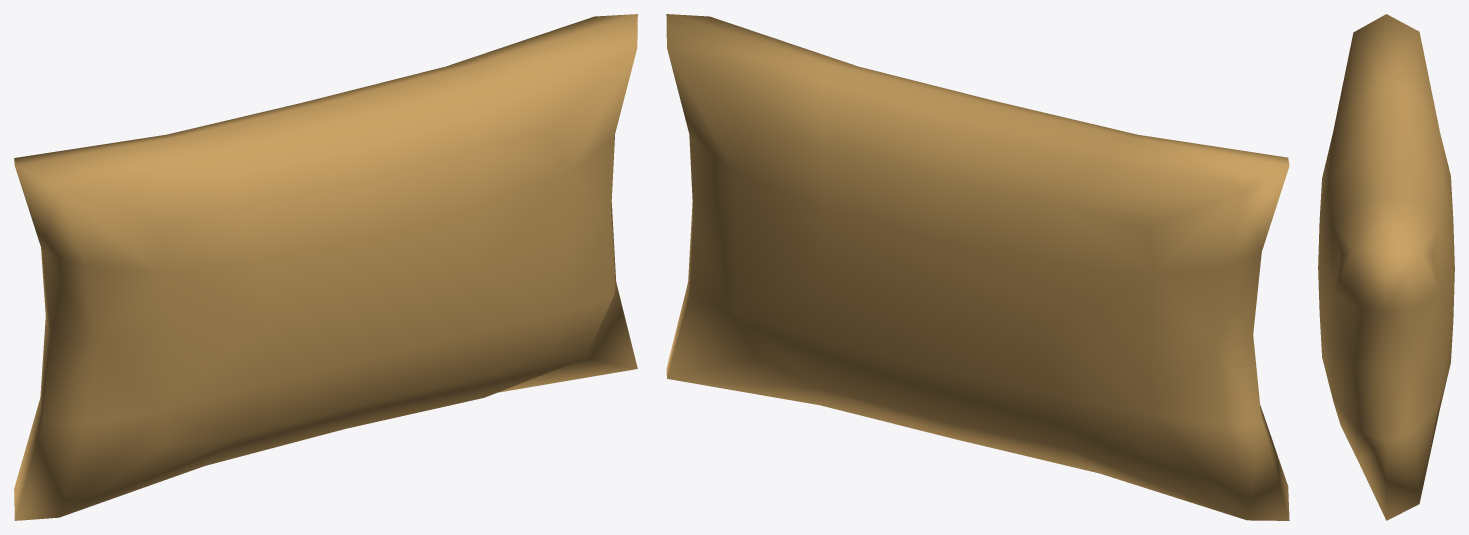
File: pillow 1.fbx
3 views of the same model, side by side, from view 1: azimuth 30°, elevation 25°; view 2: azimuth 150°, elevation 25°; view 3: azimuth 270°, elevation 25° (orthographic). The views are drawn at different scales.
Visible parts, largest first — view 1: pillow:pCube1; view 2: pillow:pCube1; view 3: pillow:pCube1.
Boxes of the visible parts, x1,y1,x2,y2 form: pillow:pCube1: (14, 14, 637, 520); pillow:pCube1: (666, 14, 1289, 520); pillow:pCube1: (1318, 14, 1454, 520).
Bounding box in the file's own units: 2.33 × 1.27 × 0.576.
